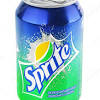sprite_can: (14, 1, 83, 100)
